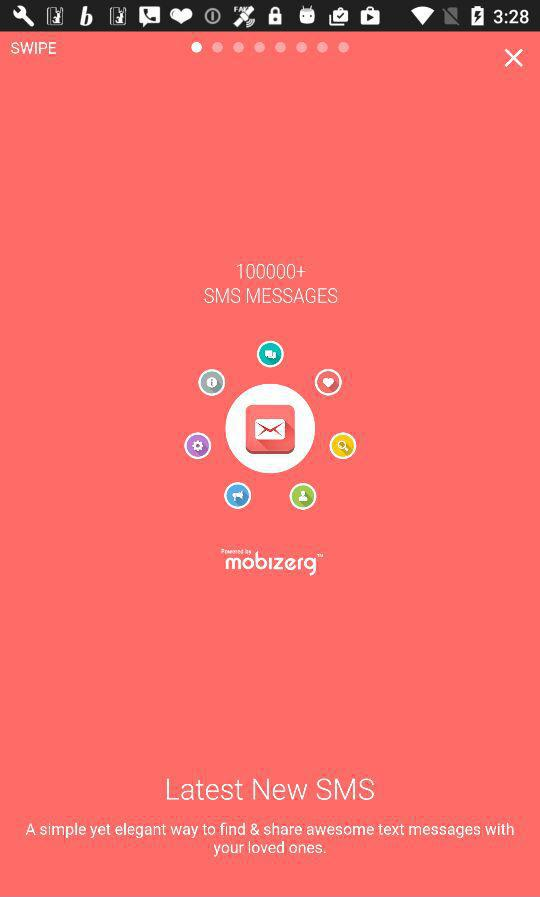Icon: (504, 49, 524, 69)
Image: (184, 340, 357, 511), (219, 548, 324, 577)
PageIndicator: (190, 41, 351, 56)
Text: (25, 821, 516, 859), (203, 261, 339, 305), (166, 778, 375, 802), (10, 42, 58, 56)
UpperTaskBar: (1, 1, 540, 33)
